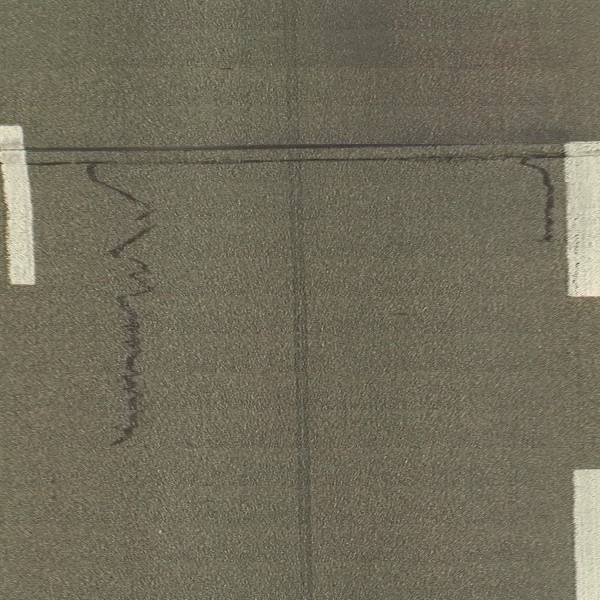road_damage: (40, 143, 562, 170), (106, 230, 155, 453)
